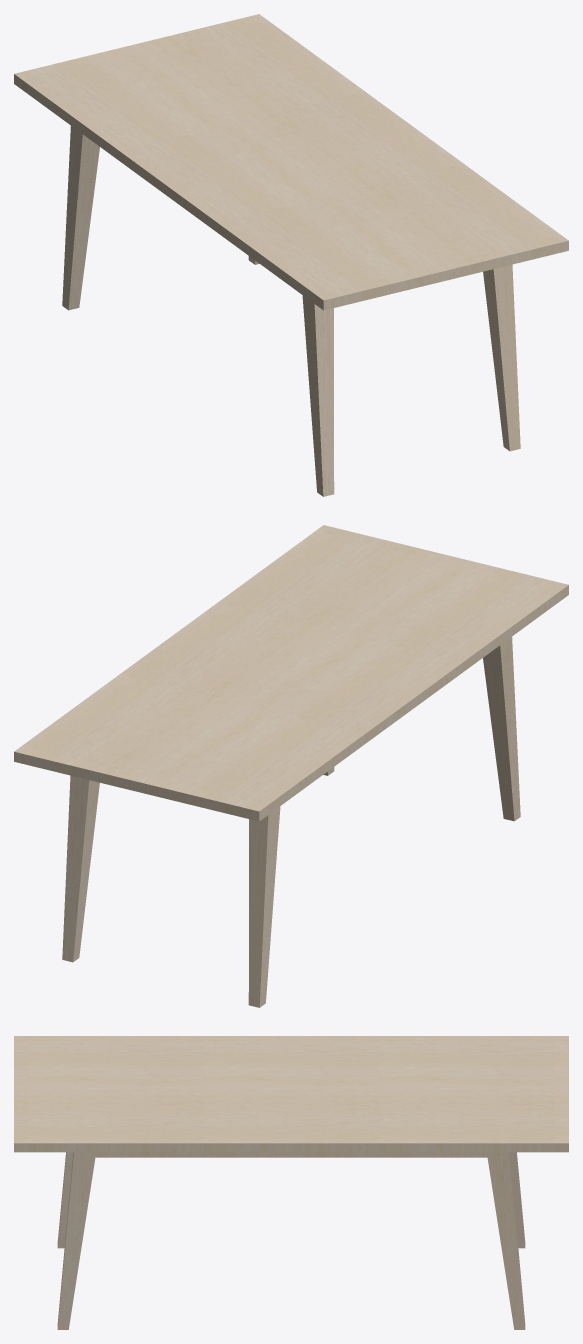
Rendered from DiningTable.FBX.
3 views of the same model, one above another, from view 1: azimuth 30°, elevation 25°; view 2: azimuth 150°, elevation 25°; view 3: azimuth 270°, elevation 25° (orthographic). The views are drawn at different scales.
Visible parts, largest first — view 1: DiningTable; view 2: DiningTable; view 3: DiningTable.
Part boxes in pixels (x1,y1,x2,y2): DiningTable: (14, 14, 568, 496); DiningTable: (14, 525, 568, 1007); DiningTable: (14, 1036, 568, 1329).
Size of the model in its own units: 86.78 by 190 by 74.4.
